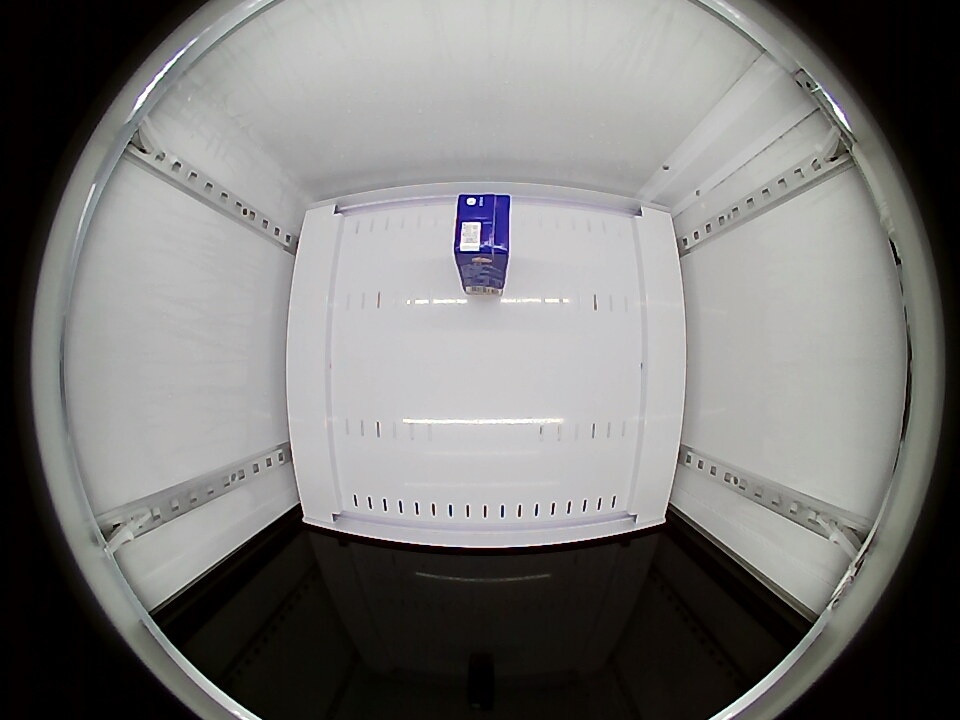bingqilinniunai: (454, 194, 511, 275)
